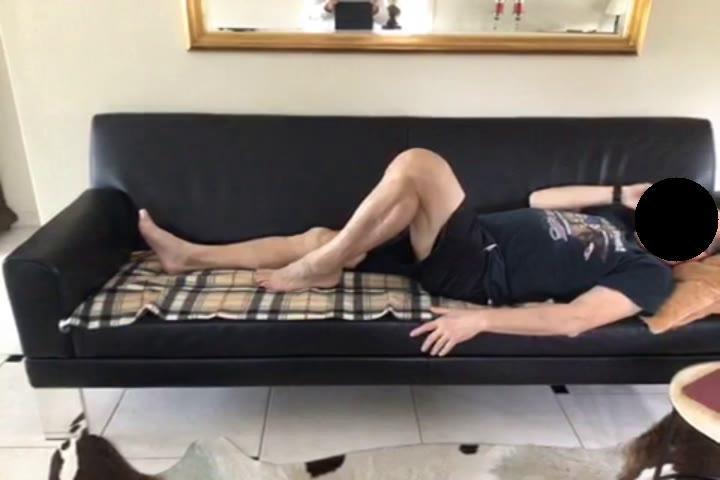lower_body: (140, 147, 508, 306)
